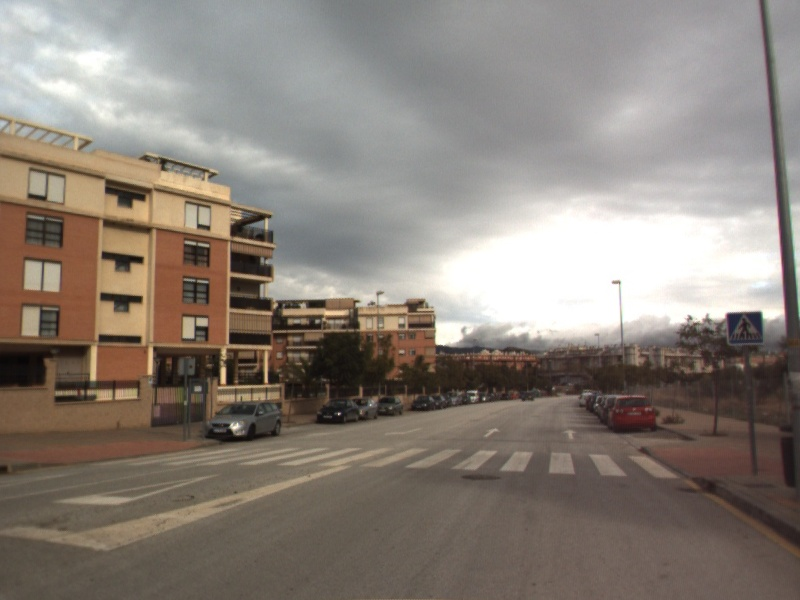STRAIGHT: (481, 425, 503, 439), (560, 427, 580, 441)
